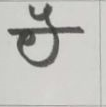ai_matra: (31, 4, 61, 27)
